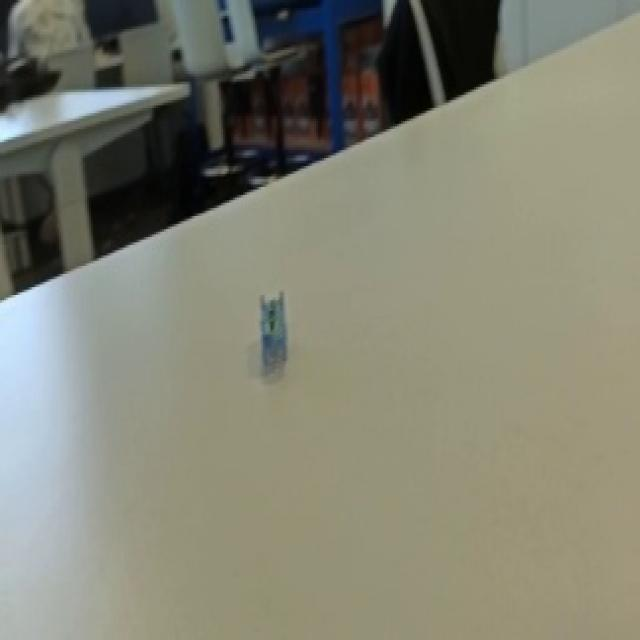3_NanoBug_Celeste: (245, 280, 304, 387)
